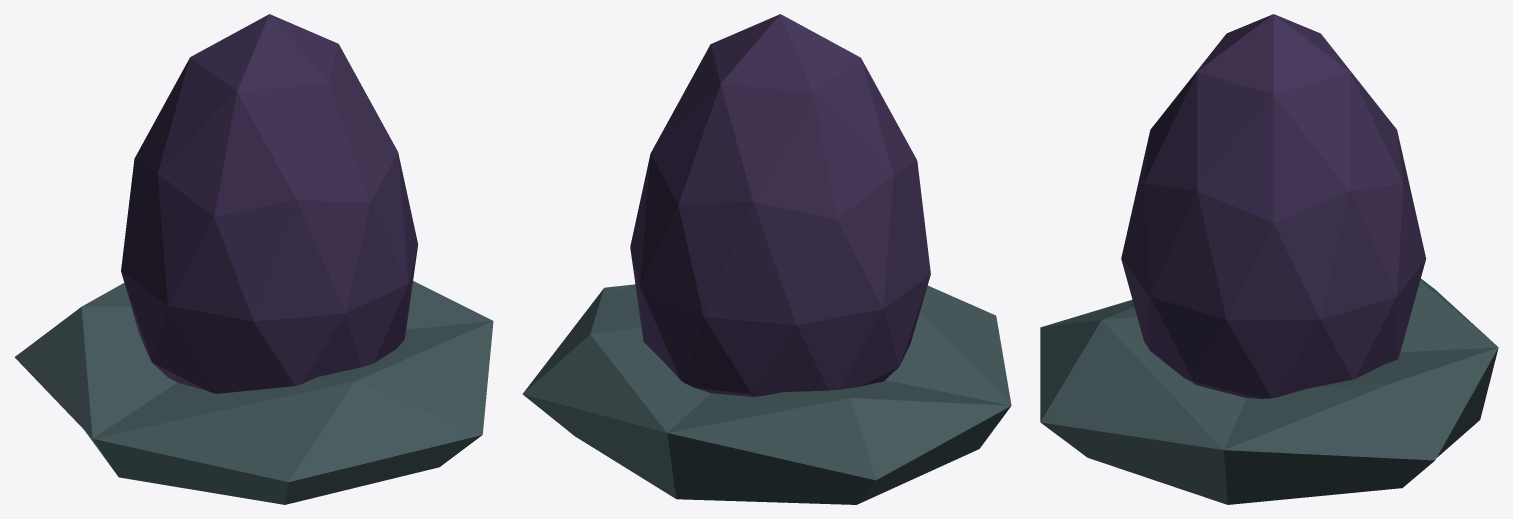
File: LPSciFiCharacter_AlienEggA.fbx
3 views of the same model, side by side, from view 1: azimuth 30°, elevation 25°; view 2: azimuth 150°, elevation 25°; view 3: azimuth 270°, elevation 25° (orthographic).
Visible parts, largest first — view 1: AlienEggA; view 2: AlienEggA; view 3: AlienEggA.
Boxes of the visible parts, bbox=[...] form: AlienEggA: bbox=[14, 14, 493, 504]; AlienEggA: bbox=[522, 14, 1011, 504]; AlienEggA: bbox=[1040, 14, 1498, 504].
Size of the model in its own units: 47.98 by 46.15 by 47.23.
